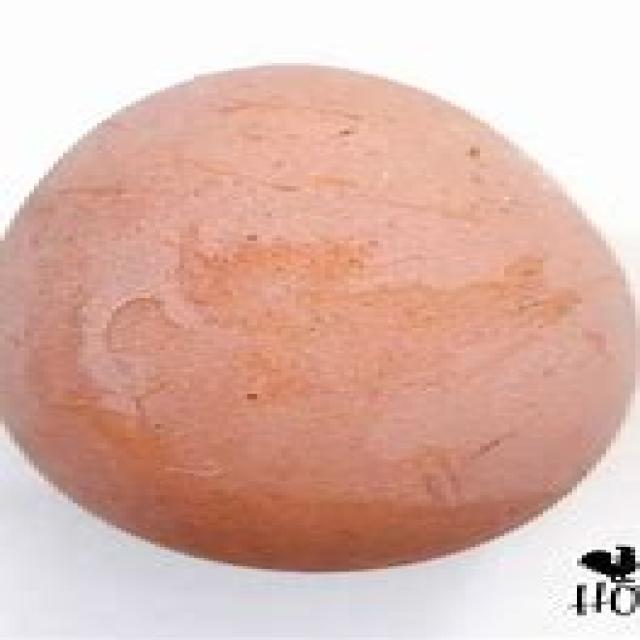Brown Egg: (2, 57, 640, 583)
